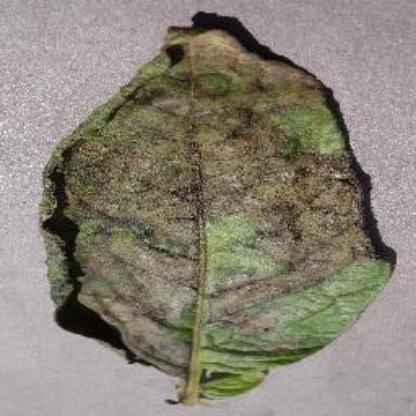Late-Blight: (38, 17, 402, 407)
